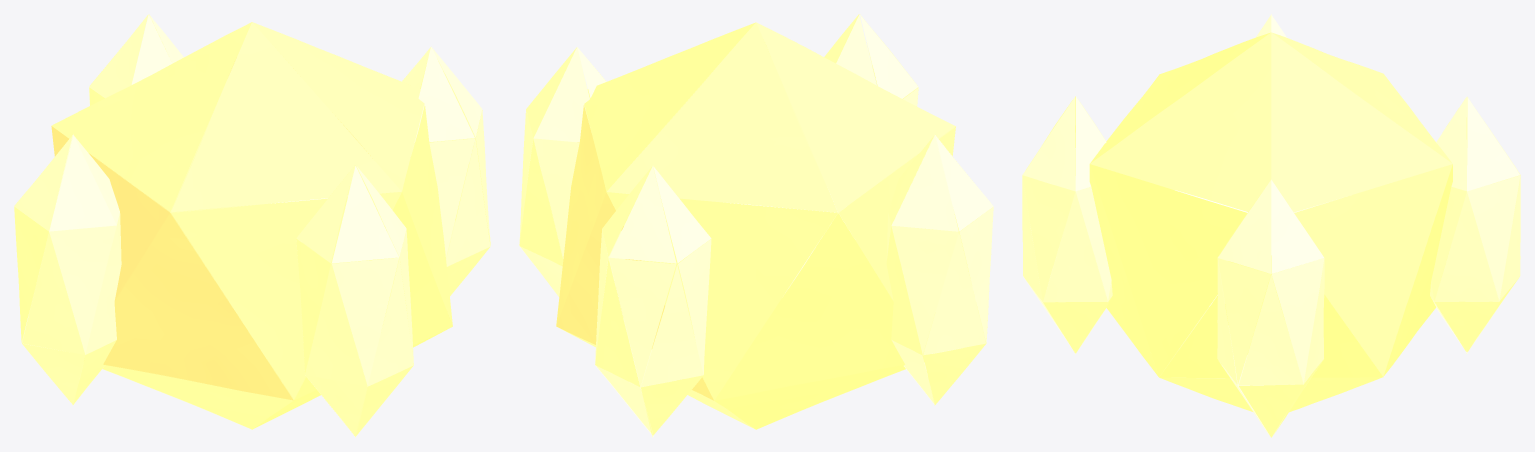
File: fireball.glb
3 views of the same model, side by side, from view 1: azimuth 30°, elevation 25°; view 2: azimuth 150°, elevation 25°; view 3: azimuth 270°, elevation 25° (orthographic). The views are drawn at different scales.
Parts seen in each view (by area): view 1: FireballShell; view 2: FireballShell; view 3: FireballShell.
Boxes of the visible parts, <box> form: FireballShell: <box>14,14,490,437</box>; FireballShell: <box>519,14,993,437</box>; FireballShell: <box>1022,14,1520,437</box>.
Size of the model in its own units: 0.5662 by 0.4791 by 0.5606.
